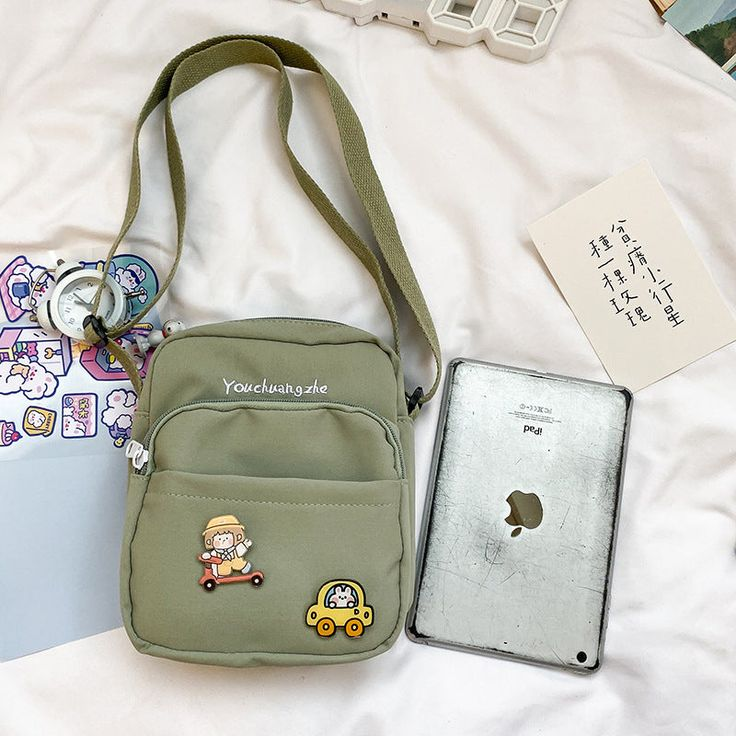nylon: (119, 314, 417, 663)
